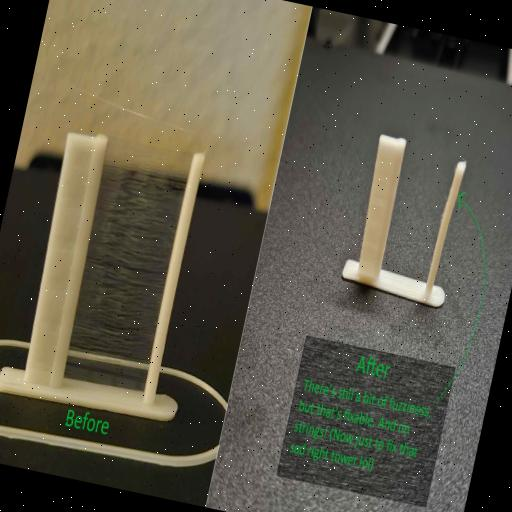stringing: (65, 164, 188, 364)
